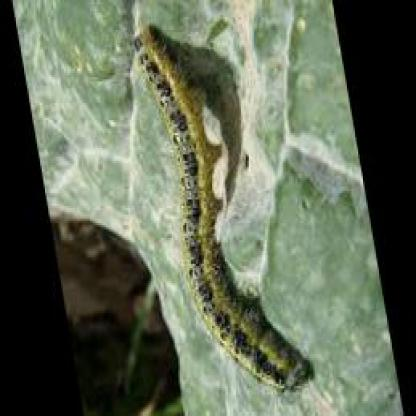pieris: (132, 25, 318, 395)
